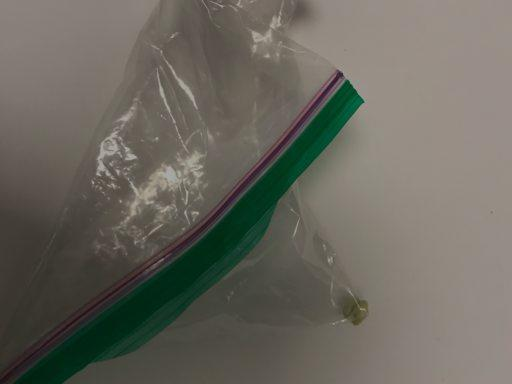plastic: (0, 6, 371, 380)
